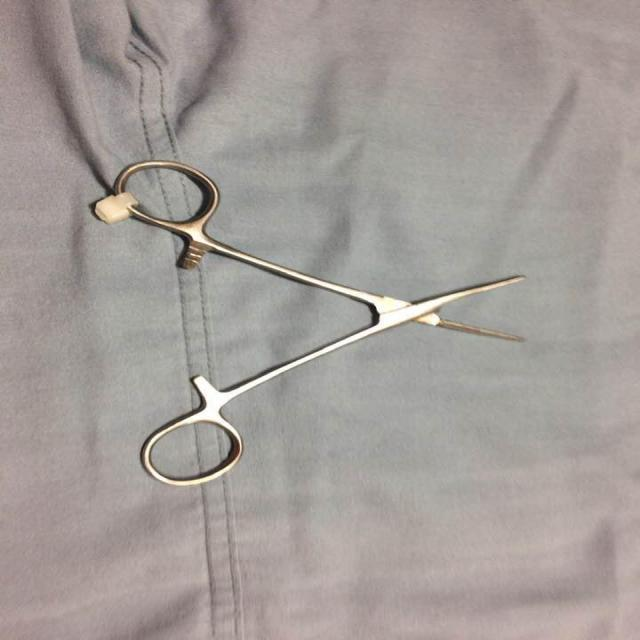Hemostat: (110, 156, 534, 491)
